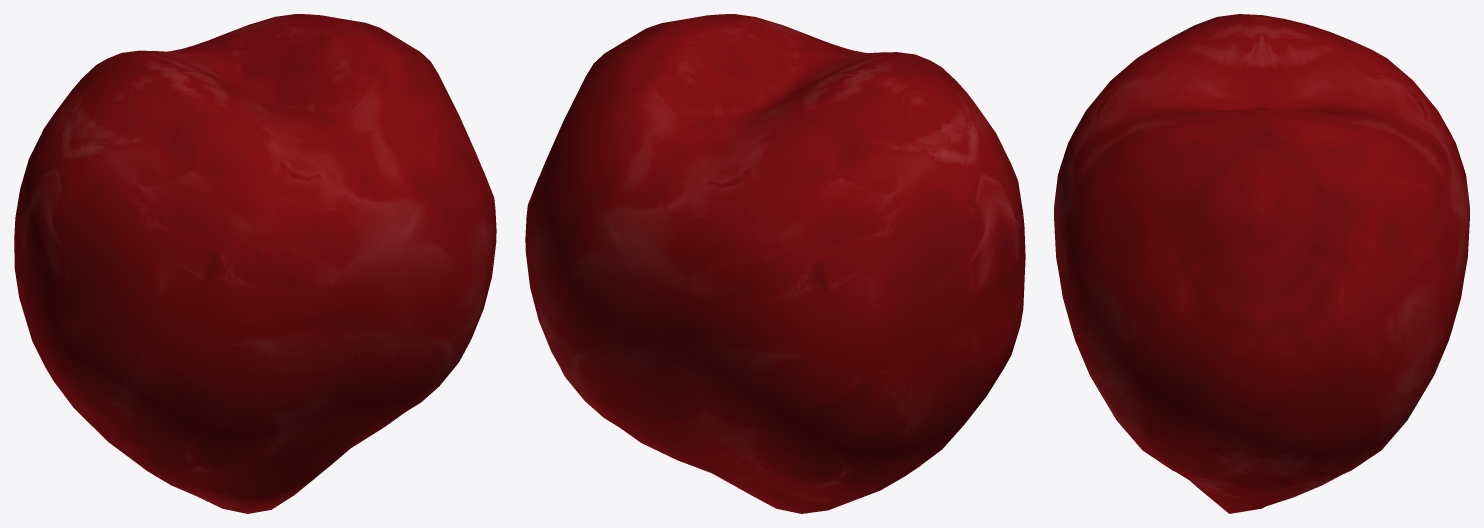
File: mCerise3.FBX
3 views of the same model, side by side, from view 1: azimuth 30°, elevation 25°; view 2: azimuth 150°, elevation 25°; view 3: azimuth 270°, elevation 25° (orthographic). The views are drawn at different scales.
Visible parts, largest first — view 1: Cerise_Positif_03; view 2: Cerise_Positif_03; view 3: Cerise_Positif_03.
Part boxes in pixels (x1,y1,x2,y2): Cerise_Positif_03: (14, 14, 496, 513); Cerise_Positif_03: (525, 14, 1025, 513); Cerise_Positif_03: (1054, 14, 1469, 513).
Size of the model in its own units: 1.03 by 1.01 by 0.8591.
